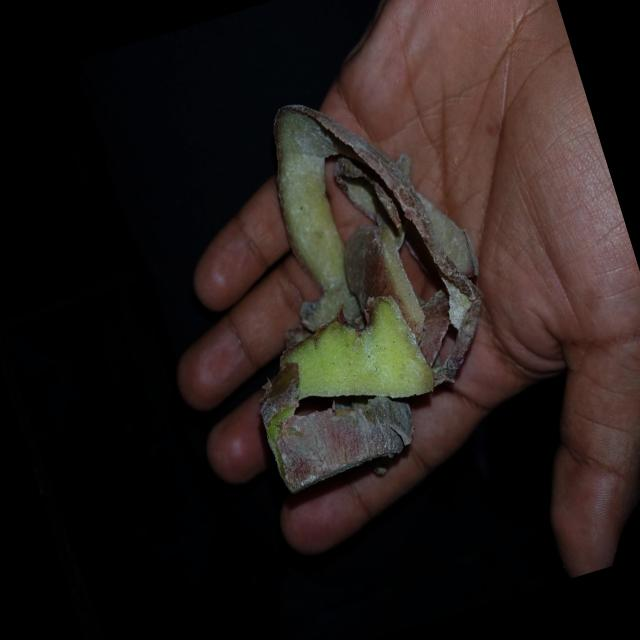organic: (172, 65, 530, 505)
